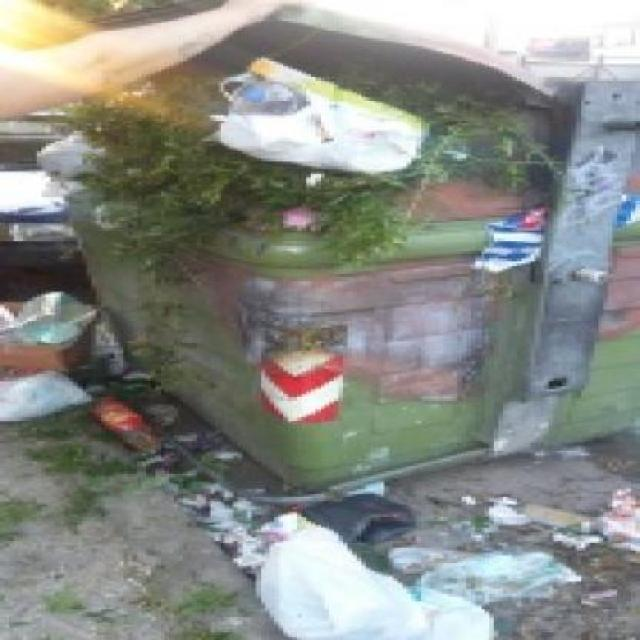garbage: (225, 497, 468, 638), (169, 53, 434, 173), (0, 294, 109, 422)
